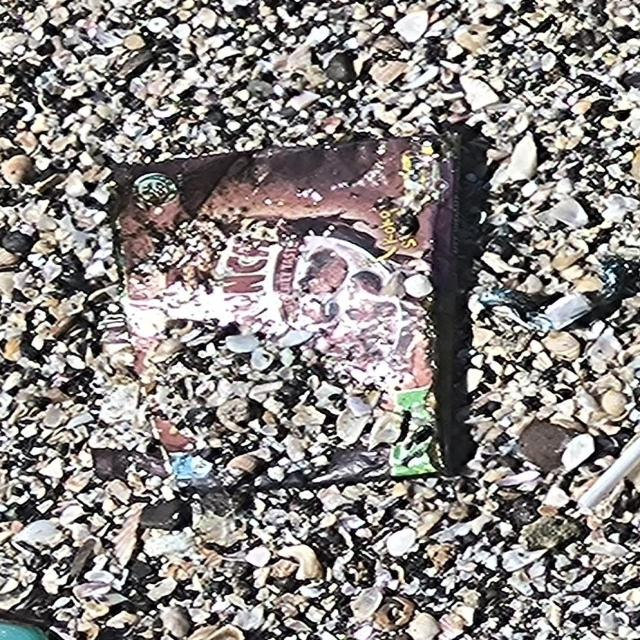plastic_waste: (110, 126, 470, 500)
